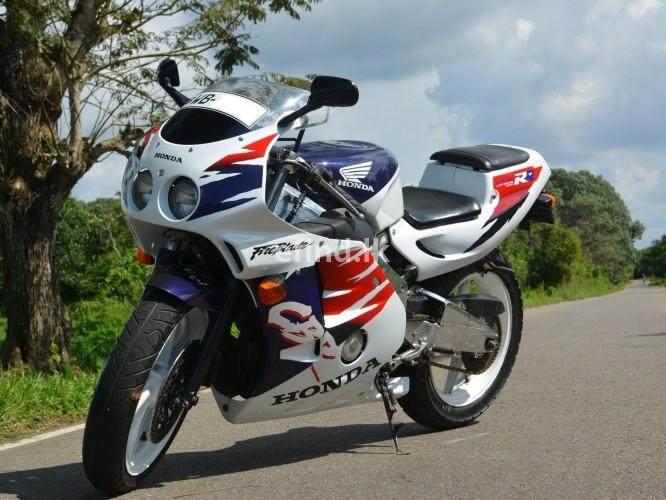motorbike: (82, 57, 554, 495)
